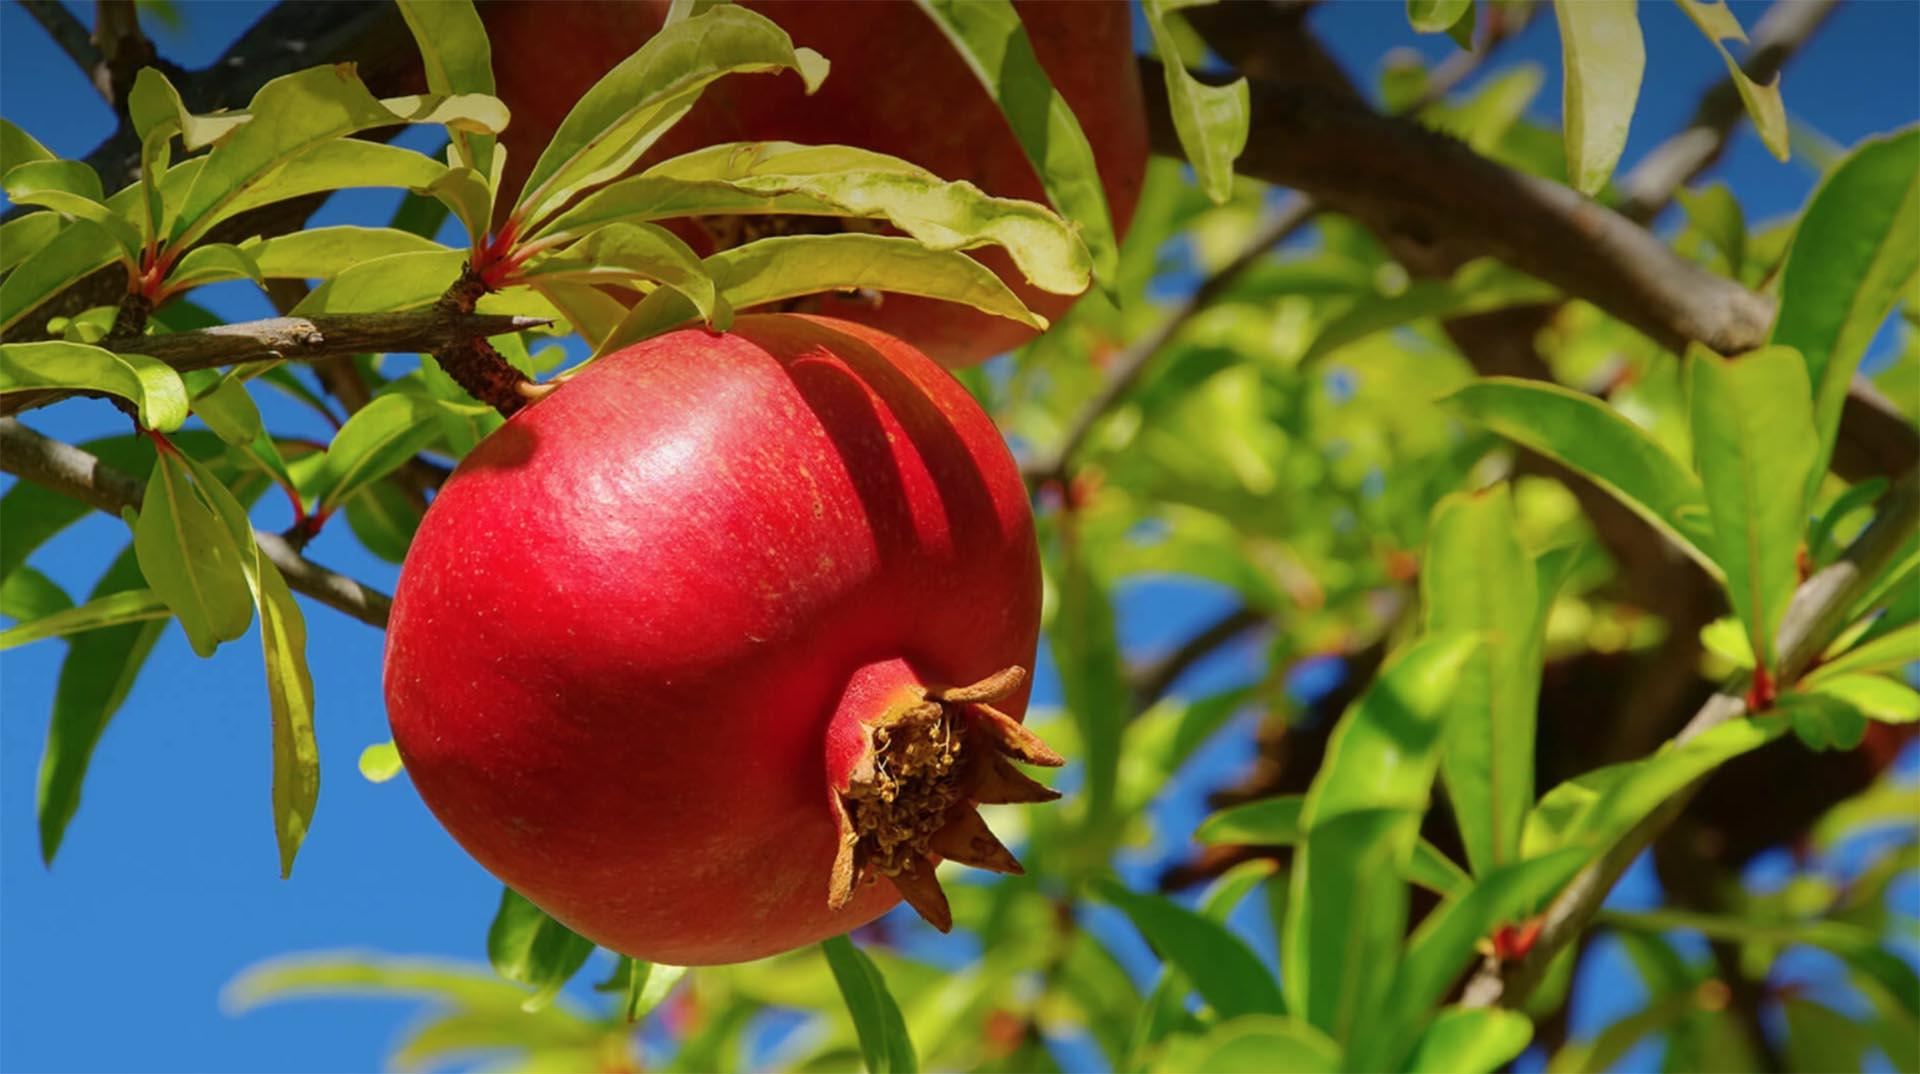tomato: (471, 0, 1150, 369)
turnip: (380, 309, 1067, 968)
